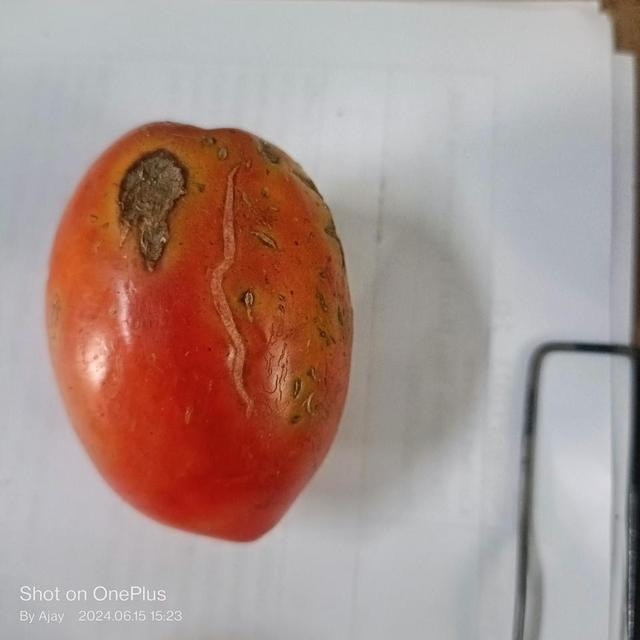Cracking Fruit: (76, 106, 172, 279)
